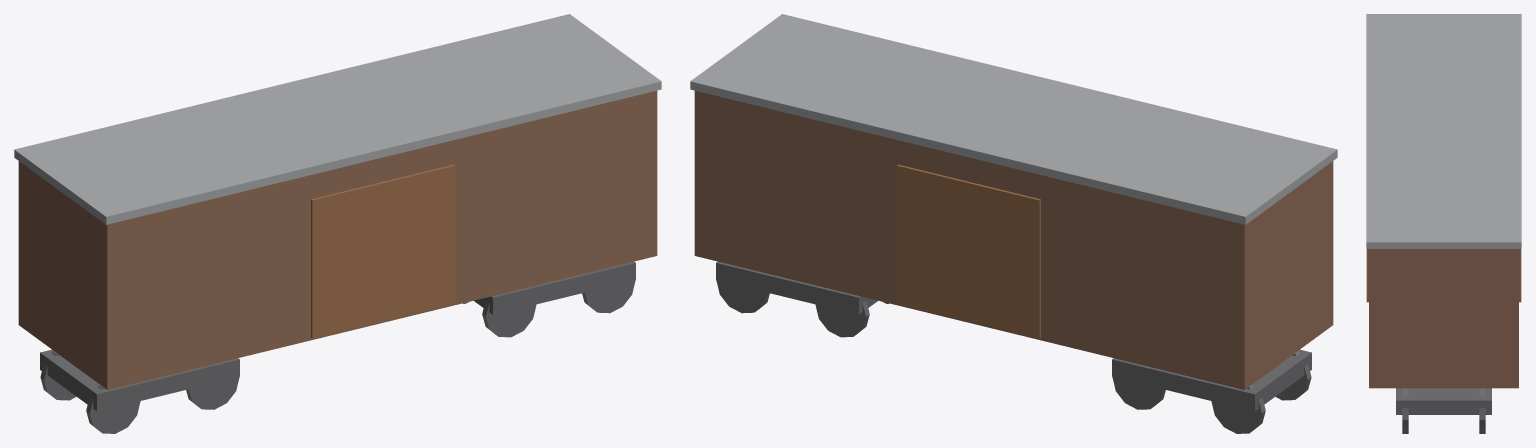
File: Boxcar.glb
3 views of the same model, side by side, from view 1: azimuth 30°, elevation 25°; view 2: azimuth 150°, elevation 25°; view 3: azimuth 270°, elevation 25° (orthographic). The views are drawn at different scales.
Parts seen in each view (by area): view 1: Boxcar body, Boxcar roof, Sliding door, Bogie frame.008, Bogie frame.009, Wheel.032, Wheel.036, Wheel.033, Wheel.037; view 2: Boxcar body, Boxcar roof, Sliding door.001, Bogie frame.008, Bogie frame.009, Wheel.034, Wheel.038, Wheel.035, Wheel.039; view 3: Boxcar roof, Boxcar body, Bogie frame.009, Wheel.037, Wheel.039.
Boxes of the visible parts, bbox=[...] form: Boxcar body: bbox=[18, 90, 657, 389]; Boxcar roof: bbox=[14, 14, 661, 224]; Sliding door: bbox=[311, 164, 455, 338]; Bogie frame.008: bbox=[40, 349, 239, 411]; Bogie frame.009: bbox=[474, 261, 635, 314]; Wheel.032: bbox=[86, 384, 140, 433]; Wheel.036: bbox=[482, 301, 536, 337]; Wheel.033: bbox=[186, 377, 239, 409]; Wheel.037: bbox=[582, 280, 635, 313]; Boxcar body: bbox=[694, 90, 1333, 389]; Boxcar roof: bbox=[690, 14, 1337, 224]; Sliding door.001: bbox=[896, 164, 1040, 338]; Bogie frame.008: bbox=[1112, 349, 1311, 411]; Bogie frame.009: bbox=[716, 261, 877, 314]; Wheel.034: bbox=[1211, 384, 1265, 433]; Wheel.038: bbox=[815, 301, 869, 337]; Wheel.035: bbox=[1112, 377, 1165, 409]; Wheel.039: bbox=[716, 280, 769, 313]; Boxcar roof: bbox=[1366, 14, 1521, 248]; Boxcar body: bbox=[1369, 249, 1518, 388]; Bogie frame.009: bbox=[1396, 388, 1491, 414]; Wheel.037: bbox=[1402, 388, 1408, 433]; Wheel.039: bbox=[1479, 388, 1485, 433].
Size of the model in its own units: 10.1 by 4.17 by 2.9.
